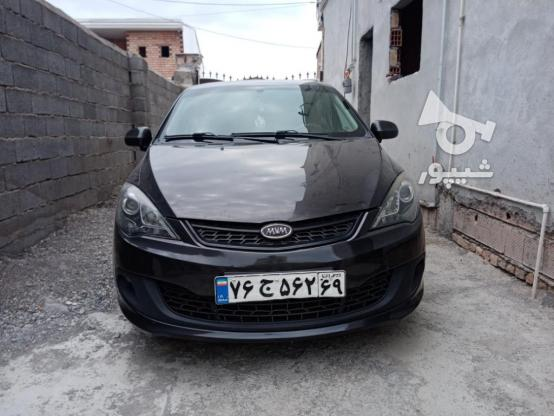car: (212, 271, 348, 303)
